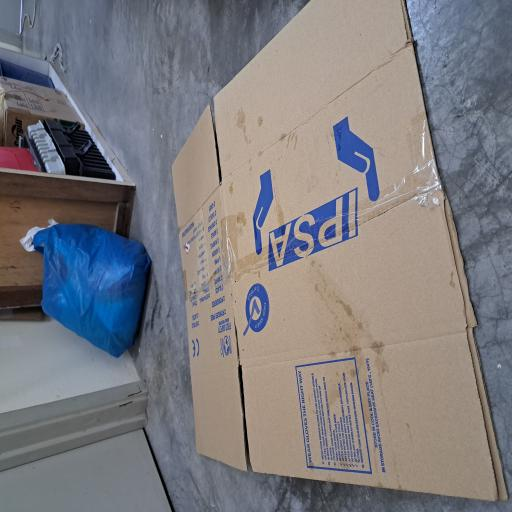cardboard: (6, 226, 384, 512)
plastic bag: (116, 44, 216, 202)
